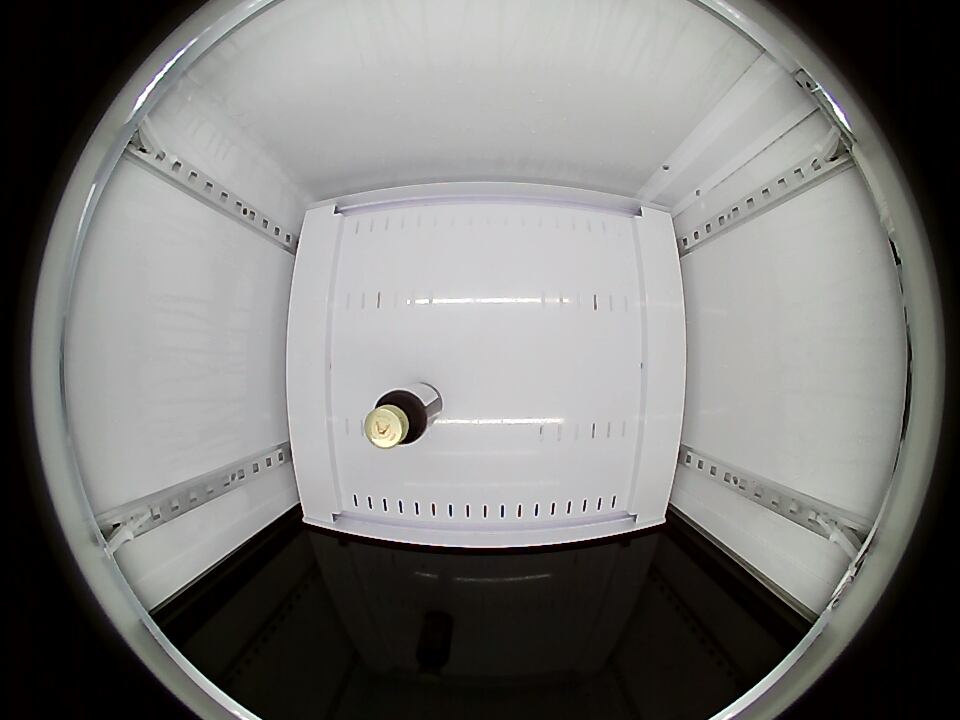libaojian: (364, 388, 432, 449)
